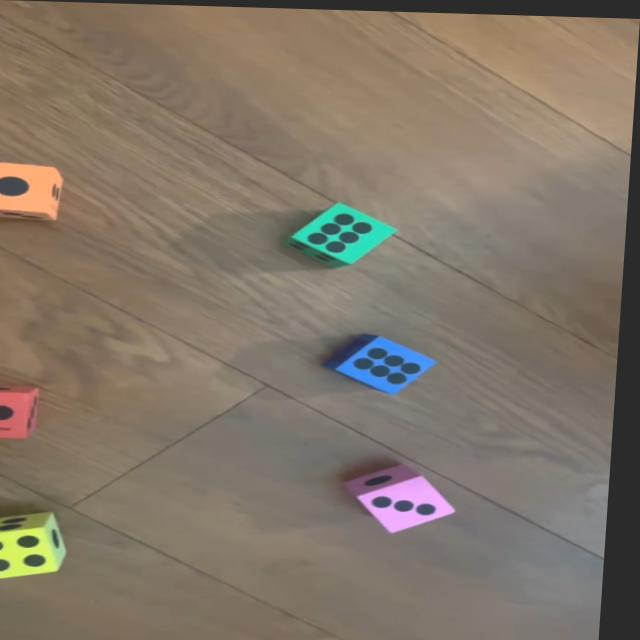cube: (293, 199, 400, 267), (336, 332, 445, 392), (0, 384, 48, 439)
